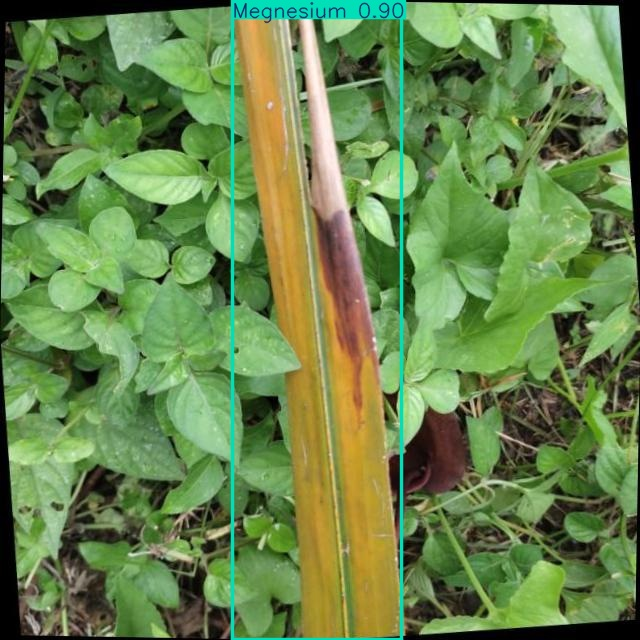Megnesium: (232, 1, 401, 639)
